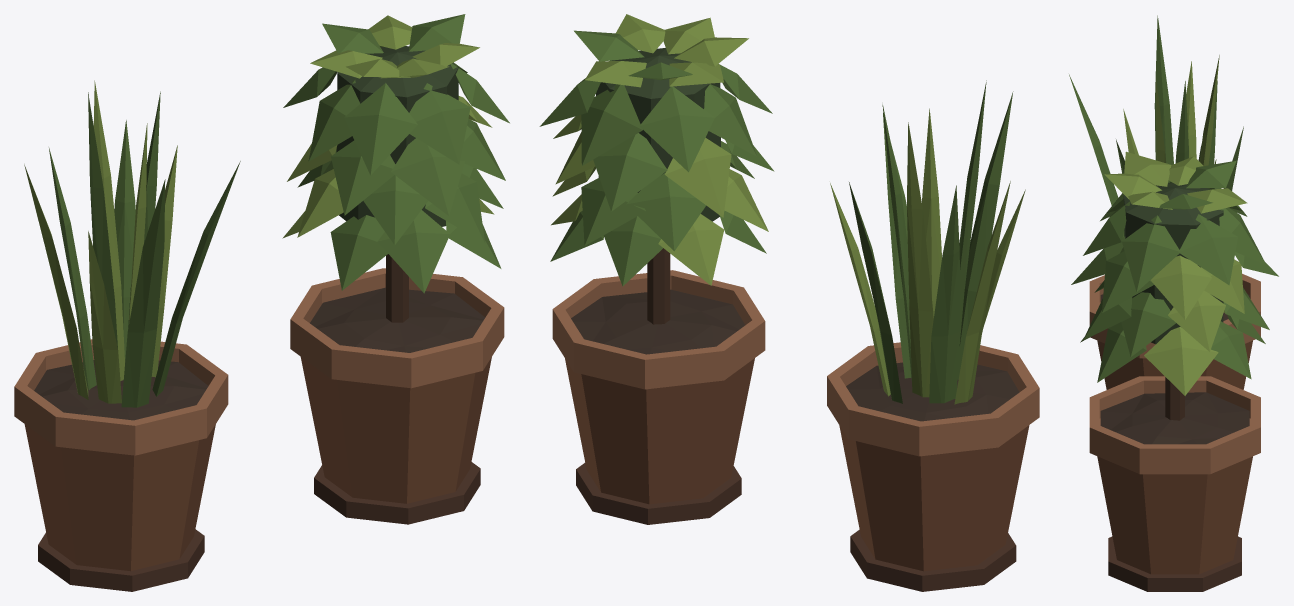
The model's file is Flowerpot.fbx.
3 renders of one model, left to right at view 1: azimuth 30°, elevation 25°; view 2: azimuth 150°, elevation 25°; view 3: azimuth 270°, elevation 25°, orthographic. The views are drawn at different scales.
Parts seen in each view (by area): view 1: FlowerpotBush_LeavesDark, FlowerpotBush_Body, Flowerpot_Body, Flowerpot_LeavesDark, FlowerpotBush_Rim, Flowerpot_LeavesLight, Flowerpot_Rim, FlowerpotBush_Soil, FlowerpotBush_LeavesLight, Flowerpot_Soil, Flowerpot_Foot, FlowerpotBush_Foot (+2 smaller); view 2: FlowerpotBush_LeavesDark, FlowerpotBush_Body, Flowerpot_Body, Flowerpot_LeavesDark, FlowerpotBush_LeavesLight, Flowerpot_LeavesLight, FlowerpotBush_Rim, Flowerpot_Rim, FlowerpotBush_Soil, Flowerpot_Soil, Flowerpot_Foot, FlowerpotBush_Foot (+2 smaller); view 3: FlowerpotBush_LeavesDark, FlowerpotBush_Body, FlowerpotBush_LeavesLight, FlowerpotBush_Rim, FlowerpotBush_Soil, Flowerpot_LeavesDark, FlowerpotBush_Core, FlowerpotBush_Foot, Flowerpot_LeavesLight, Flowerpot_Body, Flowerpot_Rim, FlowerpotBush_Trunk.
Boxes of the visible parts, bbox=[...] form: FlowerpotBush_LeavesDark: bbox=[283, 14, 509, 293]; FlowerpotBush_Body: bbox=[300, 357, 491, 503]; Flowerpot_Body: bbox=[24, 424, 215, 571]; Flowerpot_LeavesDark: bbox=[49, 91, 240, 407]; FlowerpotBush_Rim: bbox=[290, 268, 504, 388]; Flowerpot_LeavesLight: bbox=[24, 80, 177, 403]; Flowerpot_Rim: bbox=[14, 339, 228, 455]; FlowerpotBush_Soil: bbox=[310, 287, 485, 352]; FlowerpotBush_LeavesLight: bbox=[282, 15, 494, 238]; Flowerpot_Soil: bbox=[34, 360, 208, 420]; Flowerpot_Foot: bbox=[38, 529, 204, 591]; FlowerpotBush_Foot: bbox=[314, 462, 480, 524]; FlowerpotBush_LeavesDark: bbox=[539, 30, 774, 286]; FlowerpotBush_Body: bbox=[565, 358, 754, 504]; Flowerpot_Body: bbox=[839, 425, 1029, 571]; Flowerpot_LeavesDark: bbox=[849, 80, 1013, 403]; FlowerpotBush_LeavesLight: bbox=[551, 14, 768, 285]; Flowerpot_LeavesLight: bbox=[830, 108, 1025, 404]; FlowerpotBush_Rim: bbox=[552, 270, 765, 389]; Flowerpot_Rim: bbox=[827, 342, 1039, 456]; FlowerpotBush_Soil: bbox=[571, 289, 745, 354]; Flowerpot_Soil: bbox=[846, 362, 1019, 421]; Flowerpot_Foot: bbox=[850, 529, 1016, 591]; FlowerpotBush_Foot: bbox=[576, 463, 741, 524]; FlowerpotBush_LeavesDark: bbox=[1071, 160, 1278, 382]; FlowerpotBush_Body: bbox=[1097, 456, 1252, 574]; FlowerpotBush_LeavesLight: bbox=[1104, 151, 1247, 395]; FlowerpotBush_Rim: bbox=[1089, 376, 1260, 474]; FlowerpotBush_Soil: bbox=[1100, 392, 1249, 444]; Flowerpot_LeavesDark: bbox=[1069, 15, 1243, 237]; FlowerpotBush_Core: bbox=[1123, 183, 1223, 344]; FlowerpotBush_Foot: bbox=[1108, 536, 1241, 591]; Flowerpot_LeavesLight: bbox=[1123, 55, 1219, 165]; Flowerpot_Body: bbox=[1097, 340, 1252, 389]; Flowerpot_Rim: bbox=[1089, 273, 1260, 358]; FlowerpotBush_Trunk: bbox=[1165, 377, 1184, 420].
Size of the model in its own units: 542 by 535 by 247.
